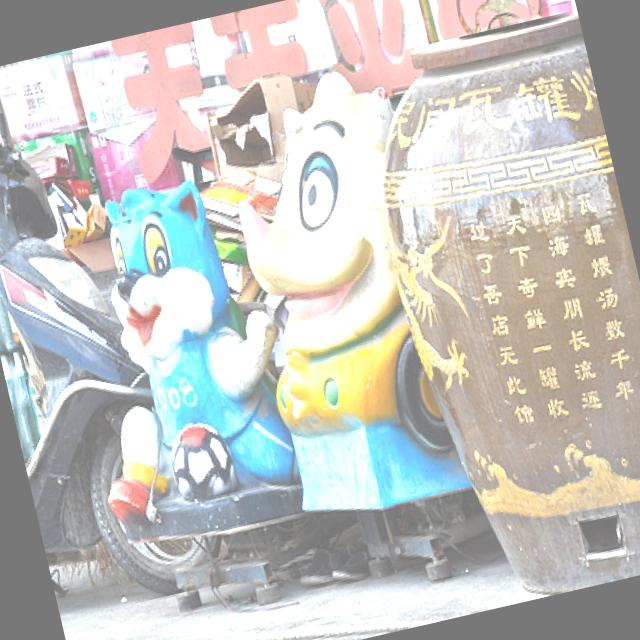Vehicle: (0, 100, 229, 611)
